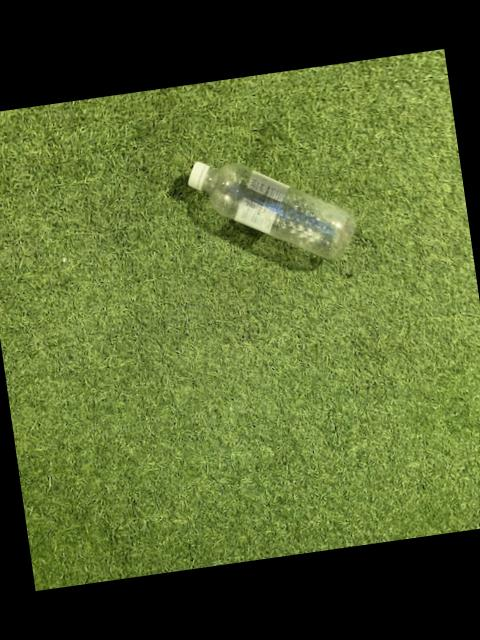plastic: (189, 163, 356, 260)
